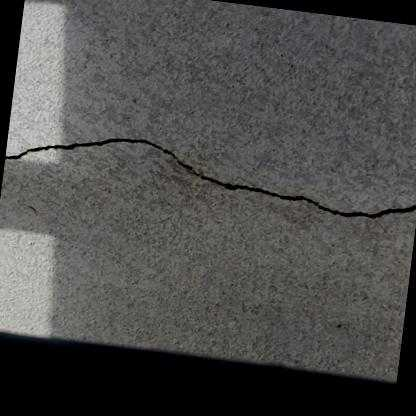crack: (5, 134, 416, 218)
